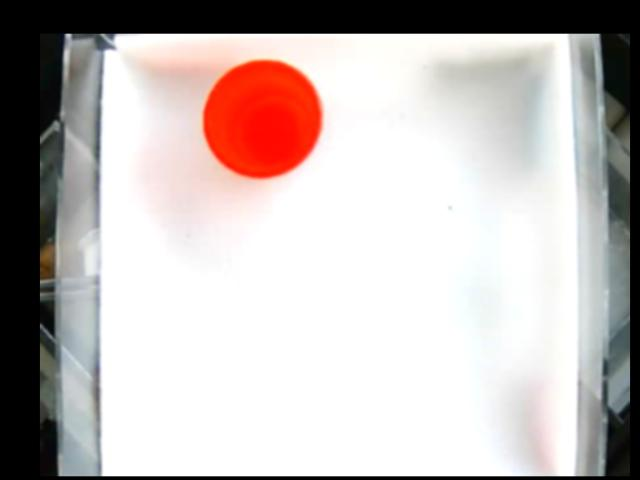Cup: (202, 58, 324, 183)
